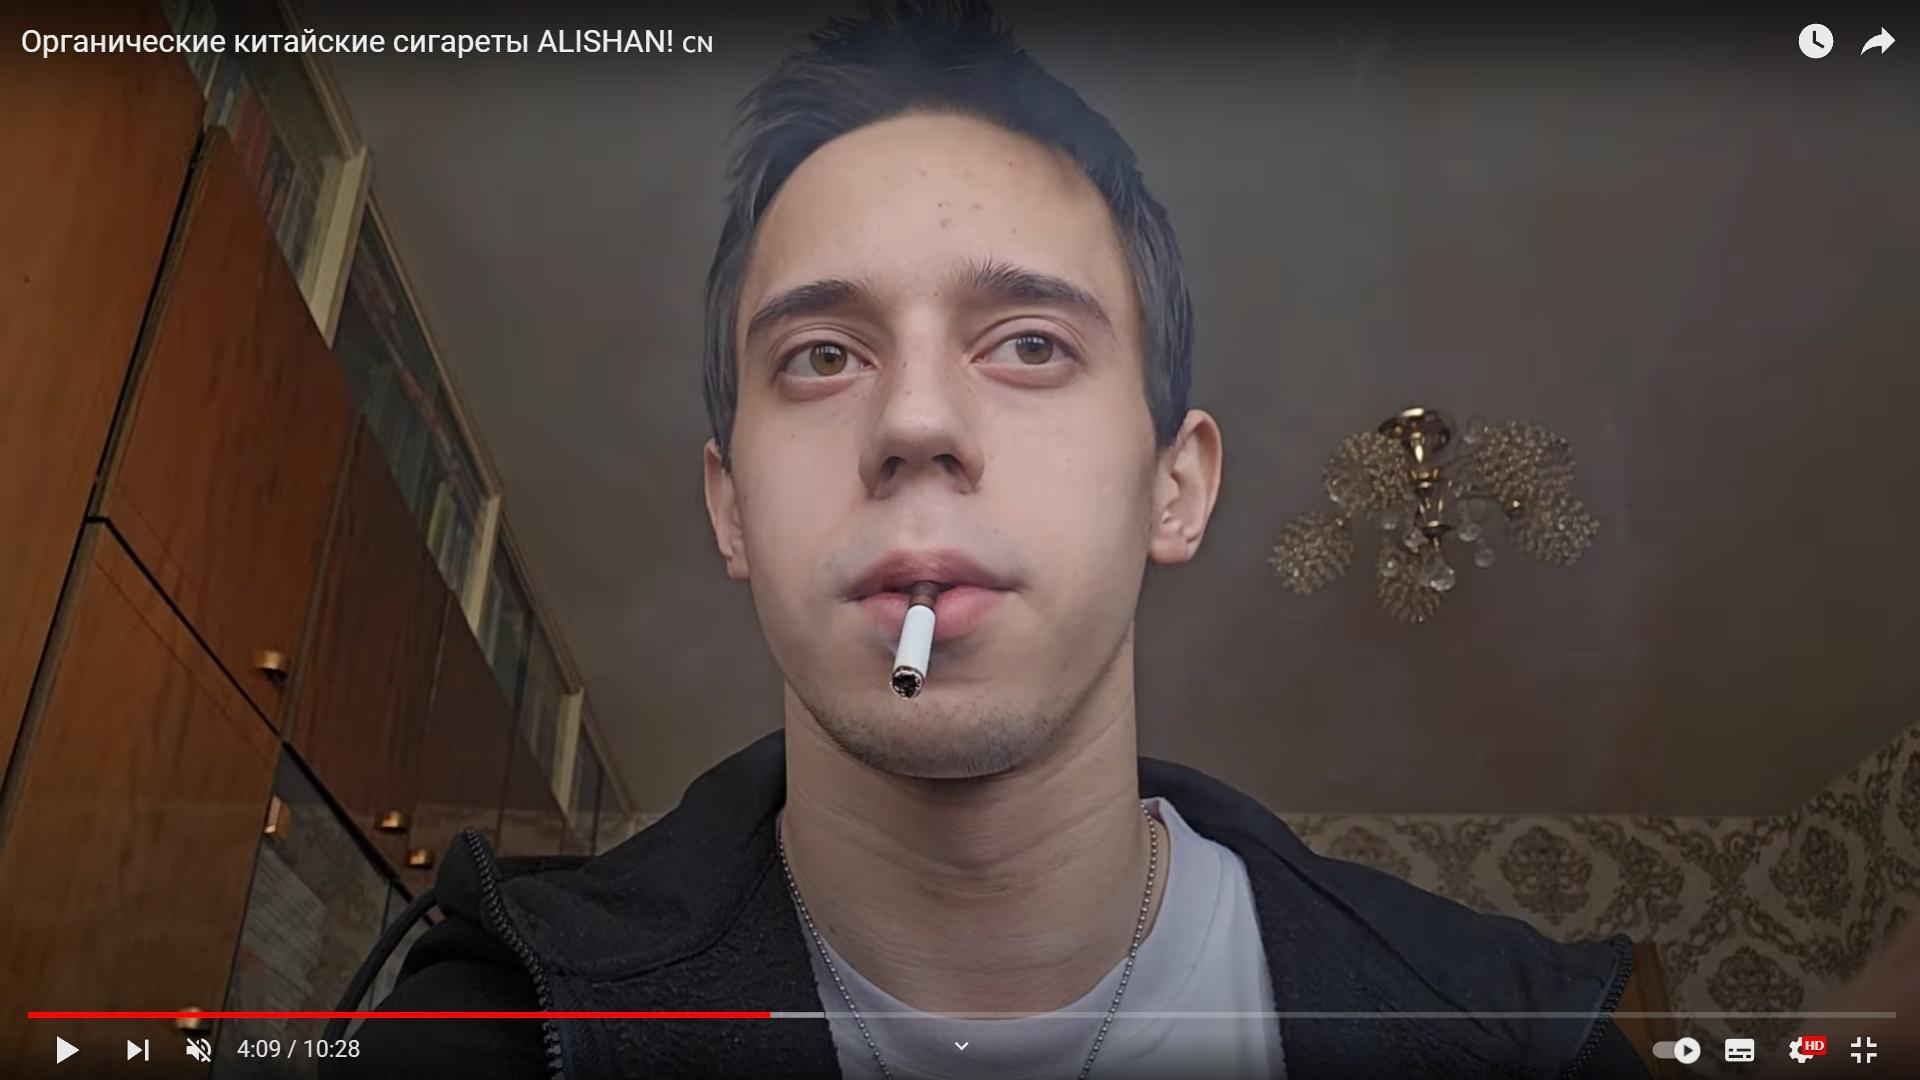cigarette: (890, 579, 939, 699)
